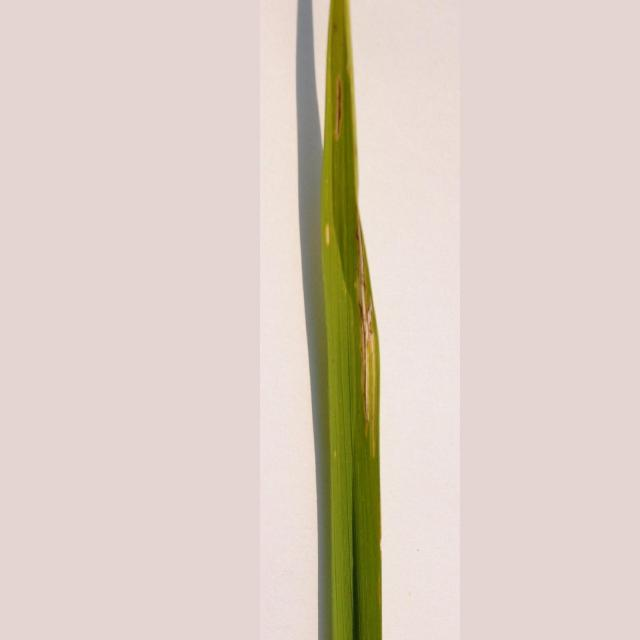leaf blight: (348, 218, 379, 449), (318, 66, 351, 148)
